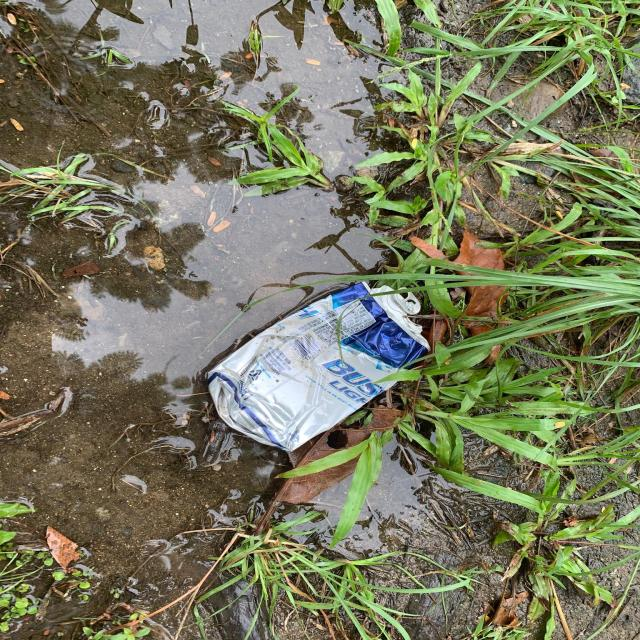litter: (205, 289, 428, 452)
